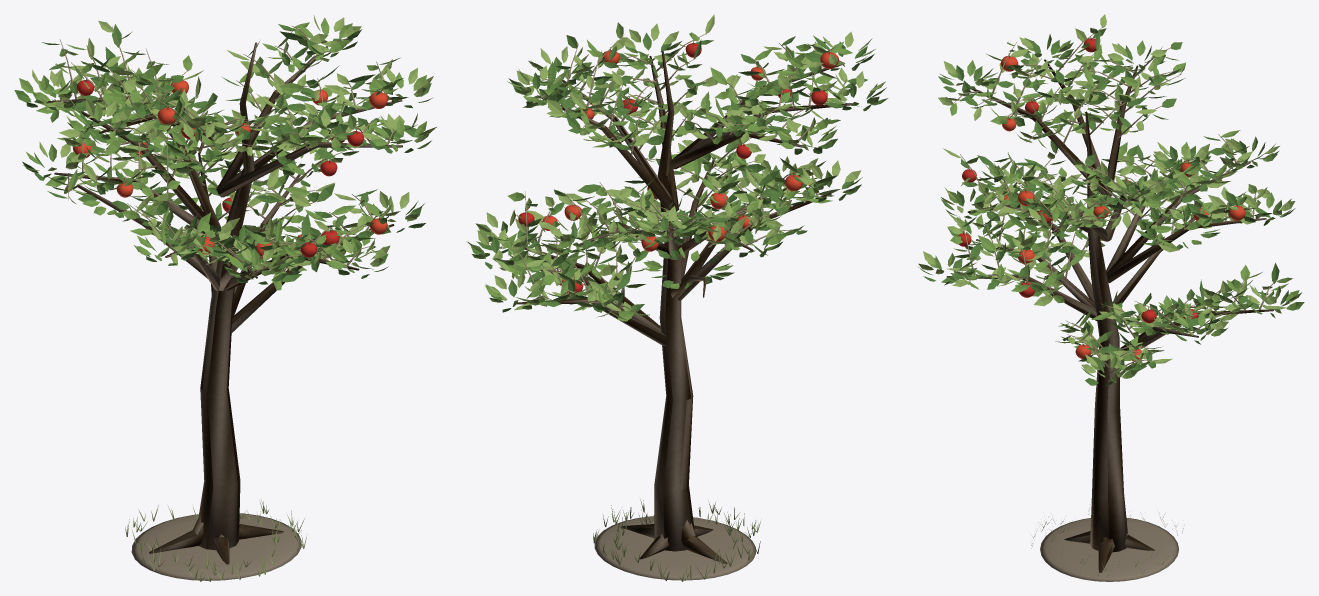
Rendered from apple-tree.glb.
3 views of the same model, side by side, from view 1: azimuth 30°, elevation 25°; view 2: azimuth 150°, elevation 25°; view 3: azimuth 270°, elevation 25° (orthographic). The views are drawn at different scales.
Parts seen in each view (by area): view 1: apple-tree__Apple_bark_warm_grey, apple-tree__Apple_leaves_sunlit_green, apple-tree__Apple_leaves_fresh_green, apple-tree__Apple_leaves_forest_green, apple-tree__Dry_orchard_earth, apple-tree__Seasonal_woody_growth, apple-tree__Apple_skin_red_orange, apple-tree__Meadow_blades, apple-tree__Apple_skin_scarlet; view 2: apple-tree__Apple_bark_warm_grey, apple-tree__Apple_leaves_fresh_green, apple-tree__Apple_leaves_forest_green, apple-tree__Apple_leaves_sunlit_green, apple-tree__Dry_orchard_earth, apple-tree__Seasonal_woody_growth, apple-tree__Apple_skin_red_orange, apple-tree__Meadow_blades, apple-tree__Apple_skin_scarlet; view 3: apple-tree__Apple_leaves_fresh_green, apple-tree__Apple_leaves_forest_green, apple-tree__Apple_bark_warm_grey, apple-tree__Apple_leaves_sunlit_green, apple-tree__Dry_orchard_earth, apple-tree__Seasonal_woody_growth, apple-tree__Apple_skin_red_orange, apple-tree__Apple_skin_scarlet.
Boxes of the visible parts, box(x1,y1,x2,y2) form: apple-tree__Apple_bark_warm_grey: box(46, 42, 402, 564); apple-tree__Apple_leaves_sunlit_green: box(16, 17, 426, 290); apple-tree__Apple_leaves_fresh_green: box(32, 15, 436, 283); apple-tree__Apple_leaves_forest_green: box(14, 24, 432, 284); apple-tree__Dry_orchard_earth: box(131, 513, 301, 580); apple-tree__Seasonal_woody_growth: box(60, 26, 394, 273); apple-tree__Apple_skin_red_orange: box(73, 80, 387, 258); apple-tree__Meadow_blades: box(125, 500, 307, 581); apple-tree__Apple_skin_scarlet: box(77, 80, 363, 257); apple-tree__Apple_bark_warm_grey: box(500, 51, 851, 563); apple-tree__Apple_leaves_fresh_green: box(466, 14, 885, 320); apple-tree__Apple_leaves_forest_green: box(471, 32, 888, 315); apple-tree__Apple_leaves_sunlit_green: box(472, 22, 886, 321); apple-tree__Dry_orchard_earth: box(594, 516, 755, 580); apple-tree__Seasonal_woody_growth: box(499, 31, 846, 312); apple-tree__Apple_skin_red_orange: box(541, 50, 838, 285); apple-tree__Meadow_blades: box(593, 499, 760, 581); apple-tree__Apple_skin_scarlet: box(518, 43, 827, 294); apple-tree__Apple_leaves_fresh_green: box(918, 14, 1301, 377); apple-tree__Apple_leaves_forest_green: box(918, 28, 1304, 385); apple-tree__Apple_bark_warm_grey: box(946, 59, 1273, 572); apple-tree__Apple_leaves_sunlit_green: box(927, 28, 1300, 382); apple-tree__Dry_orchard_earth: box(1040, 517, 1178, 581); apple-tree__Seasonal_woody_growth: box(951, 24, 1276, 373); apple-tree__Apple_skin_red_orange: box(1000, 55, 1245, 362); apple-tree__Apple_skin_scarlet: box(958, 38, 1198, 323).
Bounding box in the file's own units: 2.05 × 2.68 × 2.01.
10 materials, 1 textured.
